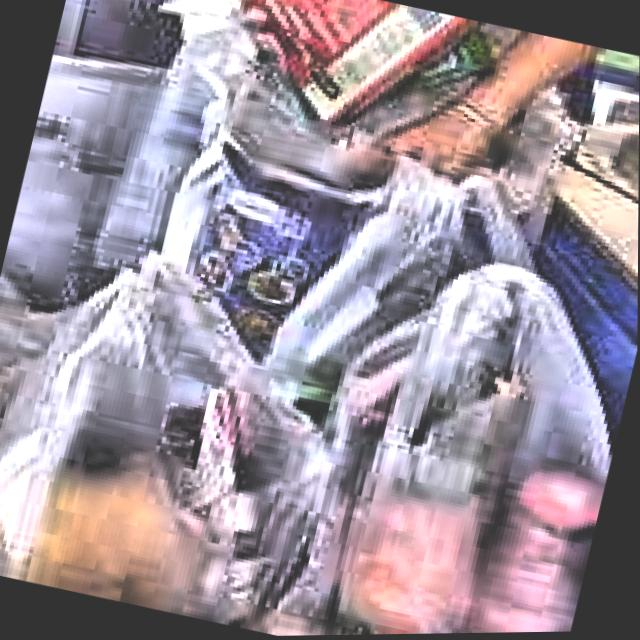Plastic: (103, 25, 594, 397), (0, 225, 371, 640), (274, 237, 639, 637)
